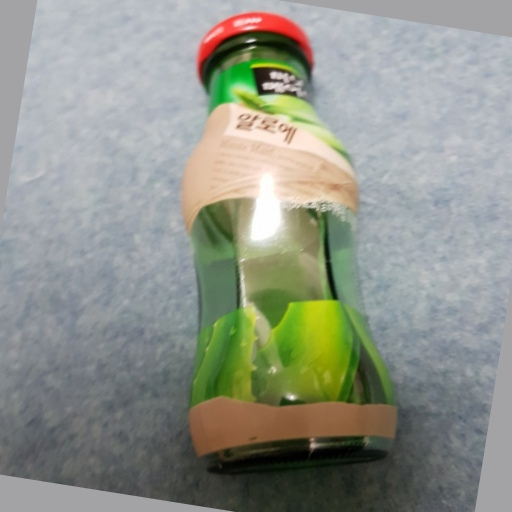Glass_4: (176, 11, 399, 464)
